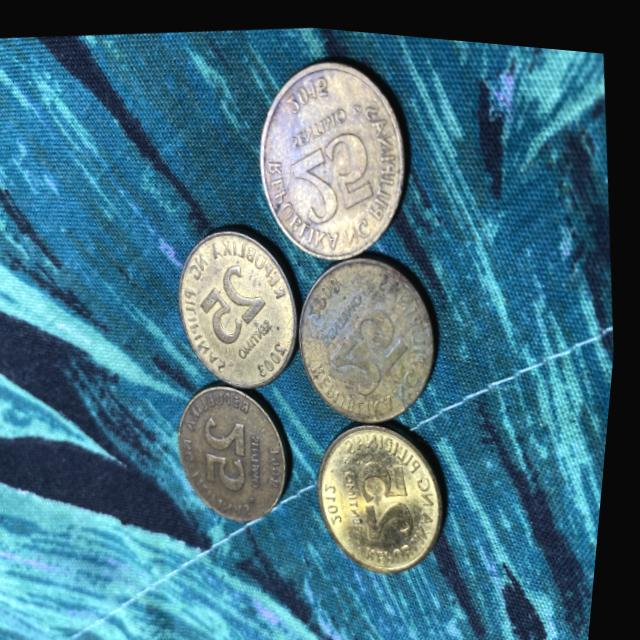25Cent_Old_Front: (285, 114, 386, 228), (330, 296, 424, 398), (196, 253, 276, 345), (200, 398, 269, 504), (360, 441, 431, 539)
